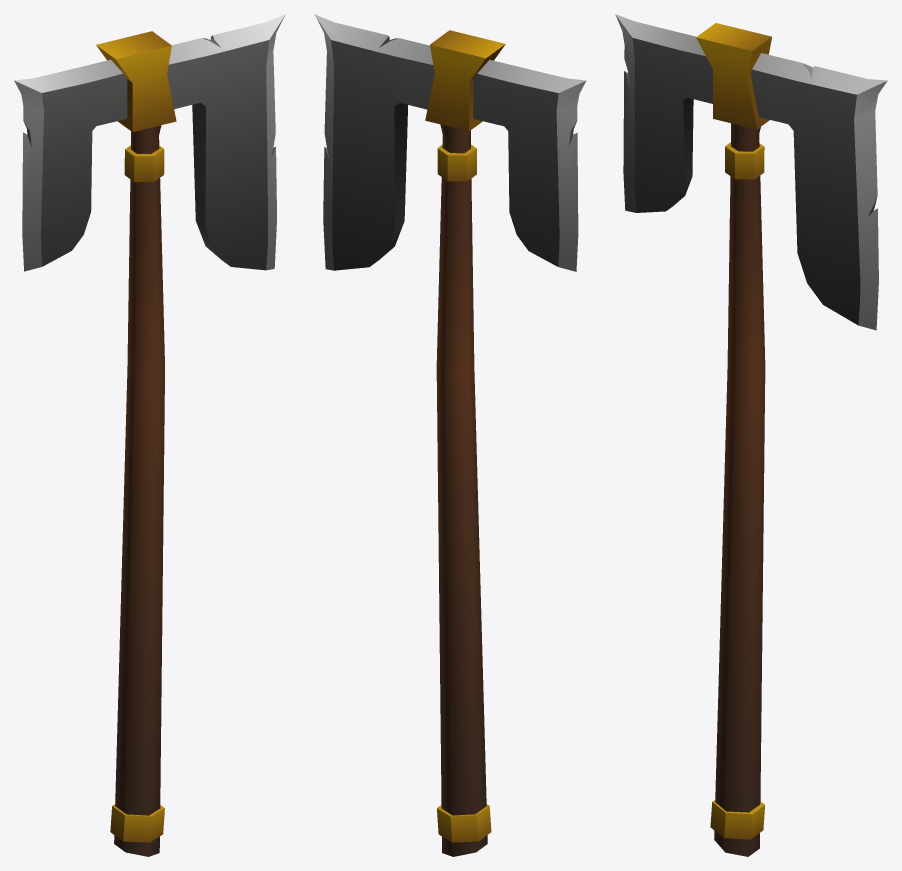
File: Axe2h_08.fbx
3 views of the same model, side by side, from view 1: azimuth 30°, elevation 25°; view 2: azimuth 150°, elevation 25°; view 3: azimuth 330°, elevation 25° (orthographic).
Parts seen in each view (by area): view 1: Axe2h_08; view 2: Axe2h_08; view 3: Axe2h_08.
Boxes of the visible parts, left/top/right/bottom form: Axe2h_08: left=14, top=14, right=285, bottom=856; Axe2h_08: left=314, top=14, right=586, bottom=856; Axe2h_08: left=615, top=14, right=887, bottom=856.
Size of the model in its own units: 41.11 by 117 by 6.73.
